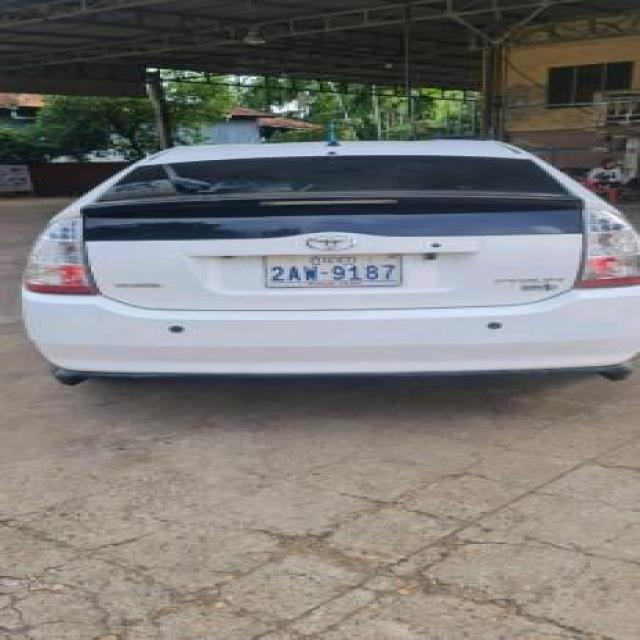Phnom_Penh: (309, 256, 358, 266)
